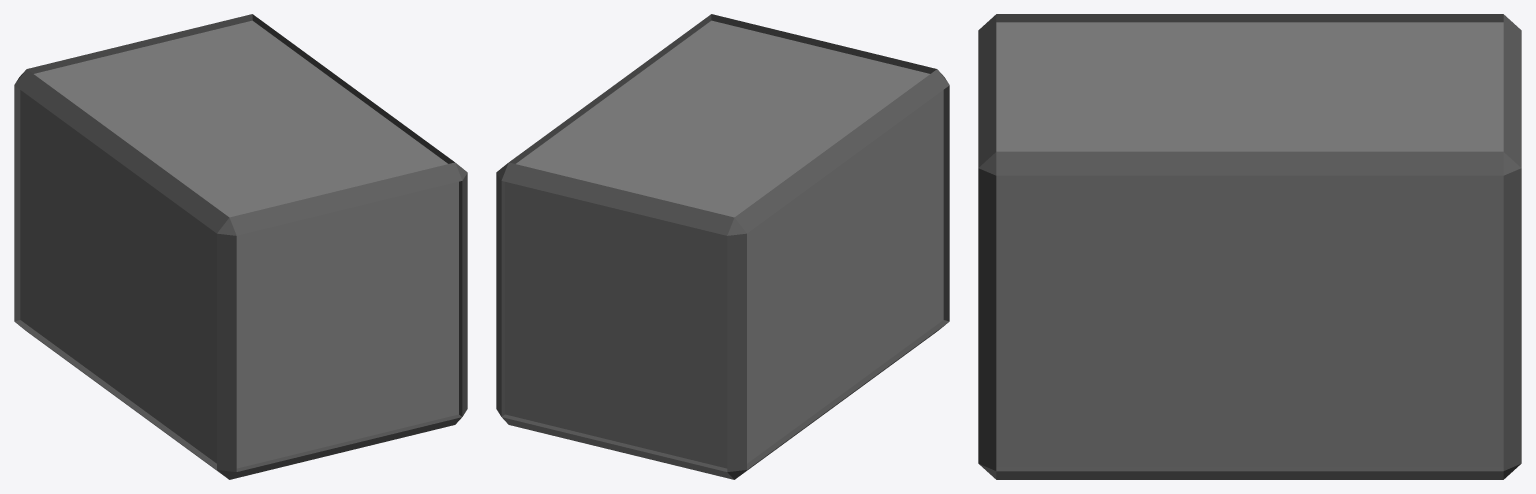
File: Crate_2x3.fbx
The picture shows the model from 3 angles, left to right: view 1: azimuth 30°, elevation 25°; view 2: azimuth 150°, elevation 25°; view 3: azimuth 270°, elevation 25°; orthographic projection. The views are drawn at different scales.
Parts seen in each view (by area): view 1: Crate_2x3; view 2: Crate_2x3; view 3: Crate_2x3.
Boxes of the visible parts, bbox=[...] form: Crate_2x3: bbox=[14, 14, 467, 479]; Crate_2x3: bbox=[496, 14, 949, 479]; Crate_2x3: bbox=[978, 14, 1521, 479].
Bounding box in the file's own units: 200 × 200 × 300.
